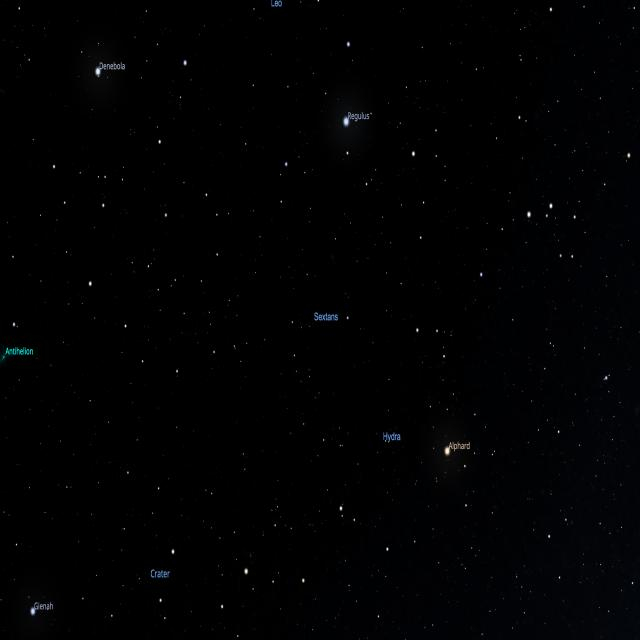Sextans: (287, 306, 354, 346)
